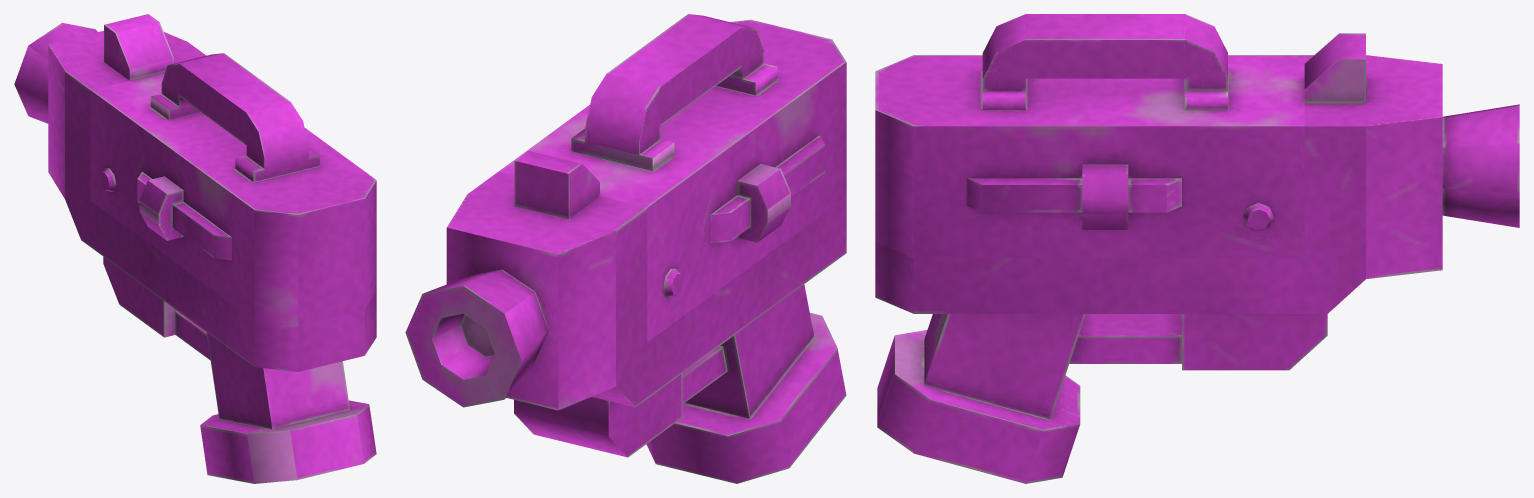
File: blaster-b.glb
3 renders of one model, left to right at view 1: azimuth 30°, elevation 25°; view 2: azimuth 150°, elevation 25°; view 3: azimuth 270°, elevation 25°, orthographic. The views are drawn at different scales.
Visible parts, largest first — view 1: blaster-b; view 2: blaster-b; view 3: blaster-b.
Part boxes in pixels (x1,y1,x2,y2): blaster-b: [14, 14, 376, 483]; blaster-b: [405, 14, 846, 483]; blaster-b: [875, 14, 1519, 483].
Size of the model in its own units: 0.155 by 0.3105 by 0.4201.
Materials: 1 (1 with a texture image).
